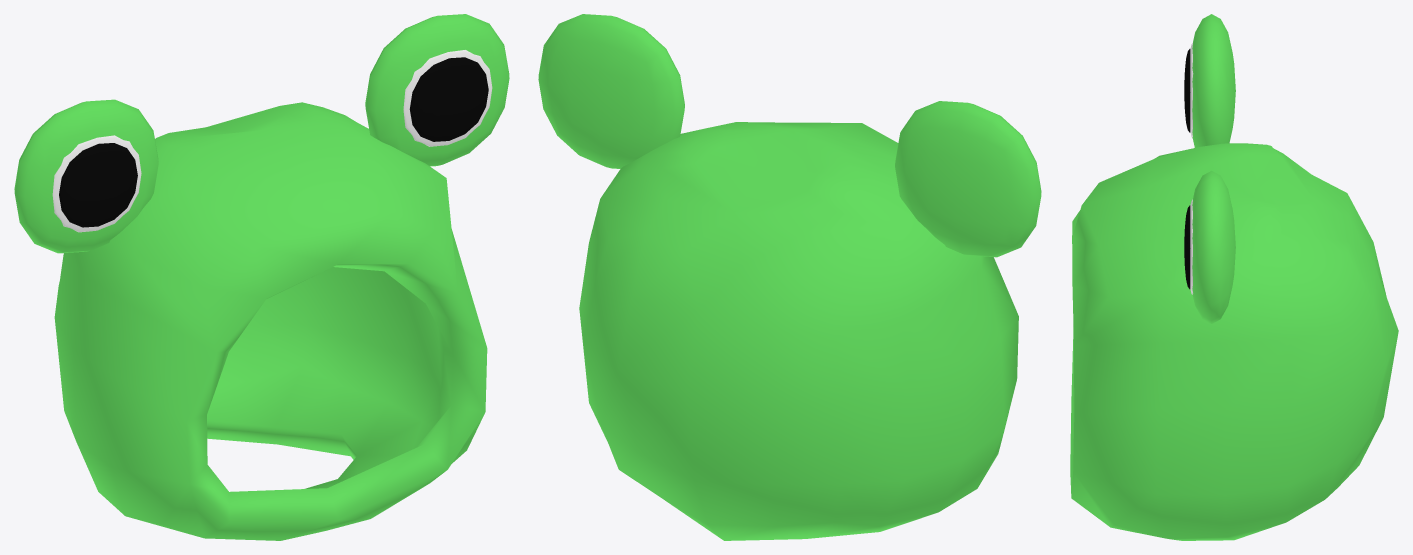
The model's file is accessory-froghat.glb.
The picture shows the model from 3 angles, left to right: view 1: azimuth 30°, elevation 25°; view 2: azimuth 150°, elevation 25°; view 3: azimuth 270°, elevation 25°; orthographic projection. The views are drawn at different scales.
Visible parts, largest first — view 1: accessory__head_mesh_001__1, accessory__Cube__0; view 2: accessory__head_mesh_001__1, accessory__Cube__0; view 3: accessory__head_mesh_001__1, accessory__Cube__0.
Part boxes in pixels (x1,y1,x2,y2): accessory__head_mesh_001__1: (54,102,487,540); accessory__Cube__0: (14,14,509,253); accessory__head_mesh_001__1: (579,122,1018,540); accessory__Cube__0: (538,14,1041,257); accessory__head_mesh_001__1: (1070,143,1398,540); accessory__Cube__0: (1184,14,1235,323).
Size of the model in its own units: 1.13 by 0.9583 by 0.7113.
